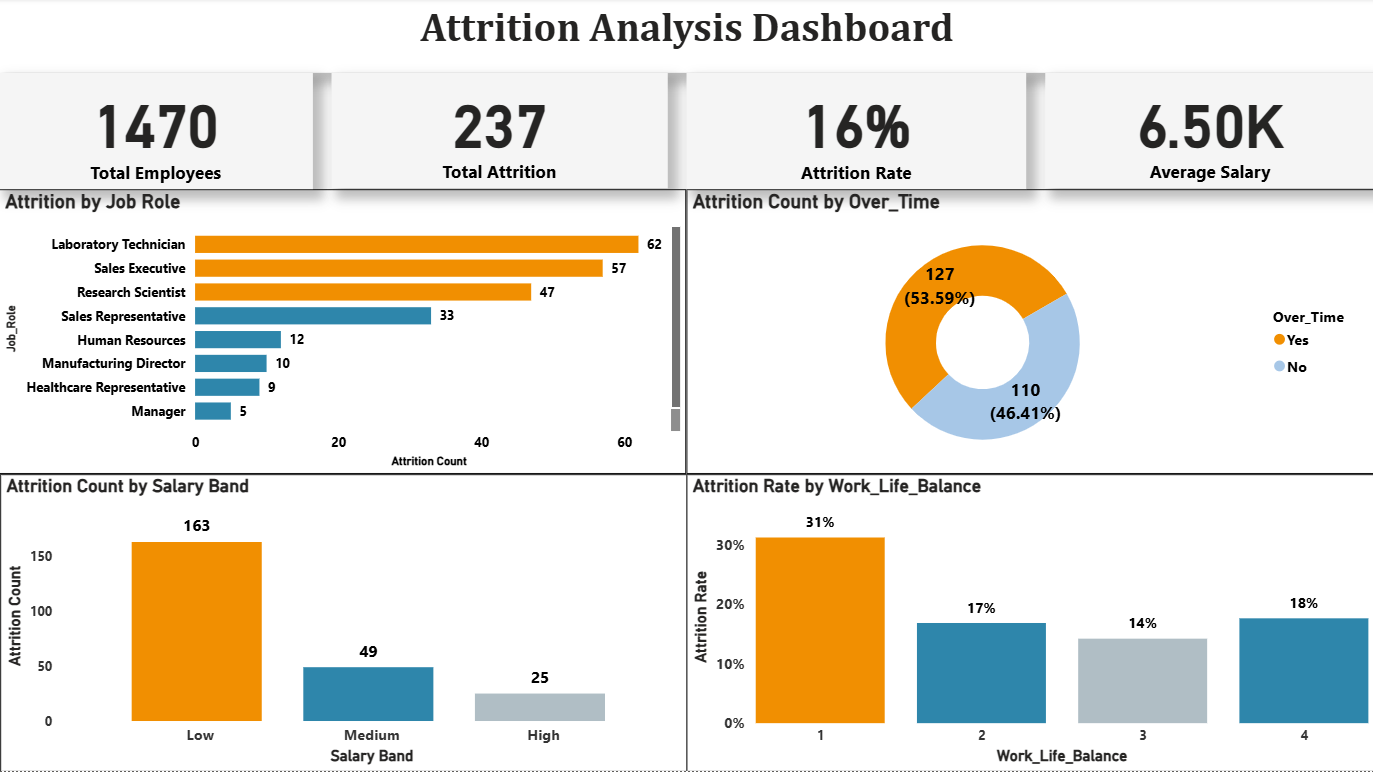

What the dashboard file says about the page in this screenshot:
{"tool":"powerbi","page":{"name":"Attrition Analysis","canvas":[1280,720],"ordinal":1},"visuals":[{"type":"barChart","title":"Attrition by Job Role","fields":{"Category":["HR.Job_Role"],"Y":["HR.Attrition Count"]},"box":[0,177.9,639.5,265.1],"z":0},{"type":"columnChart","fields":{"Category":["HR.Salary Band"],"Y":["HR.Attrition Count"]},"box":[1.2,443,639.5,276.7],"z":1000},{"type":"donutChart","fields":{"Y":["HR.Attrition Count"],"Category":["HR.Over_Time"]},"box":[639.5,177.9,640.7,265.1],"z":2000},{"type":"columnChart","fields":{"Category":["HR.Work_Life_Balance"],"Y":["HR.Attrition Rate"]},"box":[639.5,443,640.7,276.7],"z":3000},{"type":"textbox","box":[0,0,1280.2,69.8],"z":4000},{"type":"card","fields":{"Values":["HR.Total Employees"]},"box":[0,69.8,291.9,108.1],"z":4001},{"type":"card","fields":{"Values":["HR.Total Attrition"]},"box":[309.3,69.8,312.8,107],"z":4002},{"type":"card","fields":{"Values":["HR.Attrition Rate"]},"box":[639.5,69.8,316.3,108.1],"z":4003},{"type":"card","fields":{"Values":["HR.Average Salary"]},"box":[973.3,69.8,307,107],"z":4004}]}

Visuals, with their boxes in screenshot pixels (x1, y1, x2, y2), scaled from the page's 1280x720 canvas onto the 1373x772 screenshot:
"Attrition by Job Role" barChart: [0,191,686,475]
columnChart - HR.Salary Band x HR.Attrition Count: [1,475,687,771]
donutChart - HR.Attrition Count x HR.Over_Time: [686,191,1372,475]
columnChart - HR.Work_Life_Balance x HR.Attrition Rate: [686,475,1372,771]
textbox: [0,0,1372,75]
card - HR.Total Employees: [0,75,313,191]
card - HR.Total Attrition: [332,75,667,190]
card - HR.Attrition Rate: [686,75,1025,191]
card - HR.Average Salary: [1044,75,1372,190]
